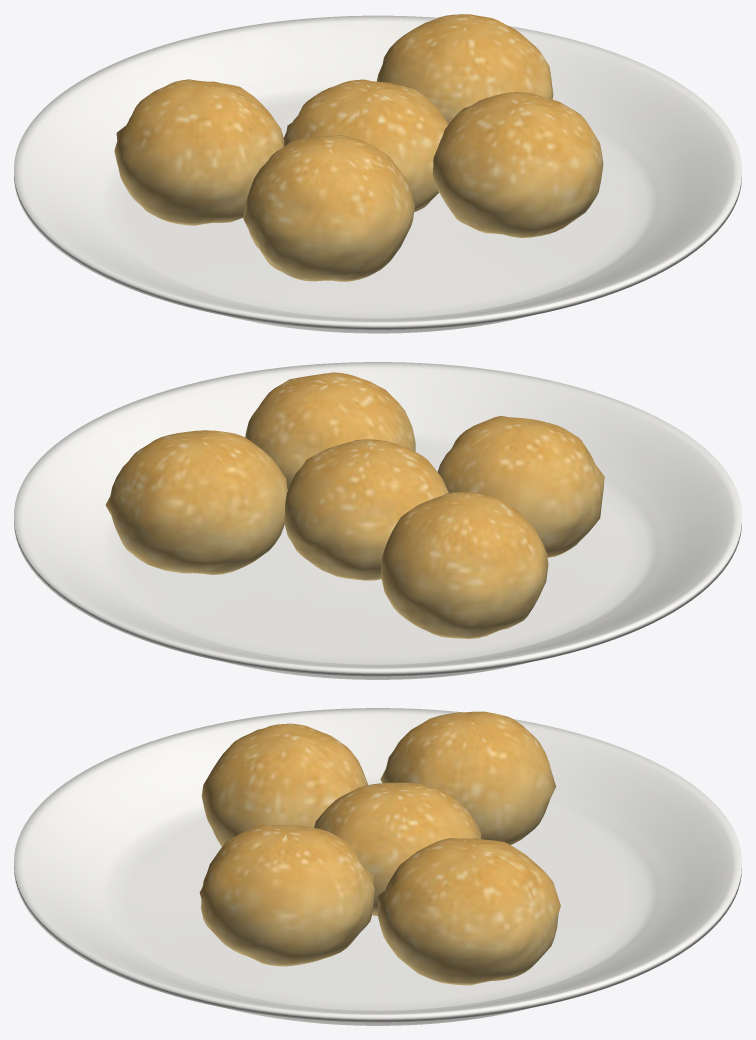
File: pao-de-queijo-5.glb
The picture shows the model from 3 angles, top to bottom: view 1: azimuth 30°, elevation 25°; view 2: azimuth 150°, elevation 25°; view 3: azimuth 270°, elevation 25°; orthographic projection.
Visible parts, largest first — view 1: ceramic, satin; view 2: ceramic, satin; view 3: ceramic, satin.
Boxes of the visible parts, <box> form: ceramic: <box>14,15,741,333</box>; satin: <box>114,14,603,281</box>; ceramic: <box>14,362,741,679</box>; satin: <box>105,372,604,638</box>; ceramic: <box>14,708,741,1025</box>; satin: <box>199,711,560,985</box>.
Size of the model in its own units: 0.2 by 0.0409 by 0.2.
2 materials, 2 textured.
